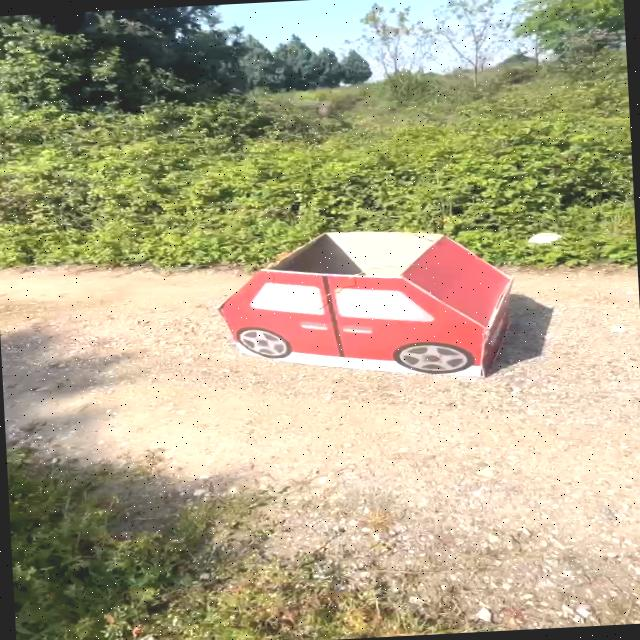red_car: (195, 217, 554, 407)
